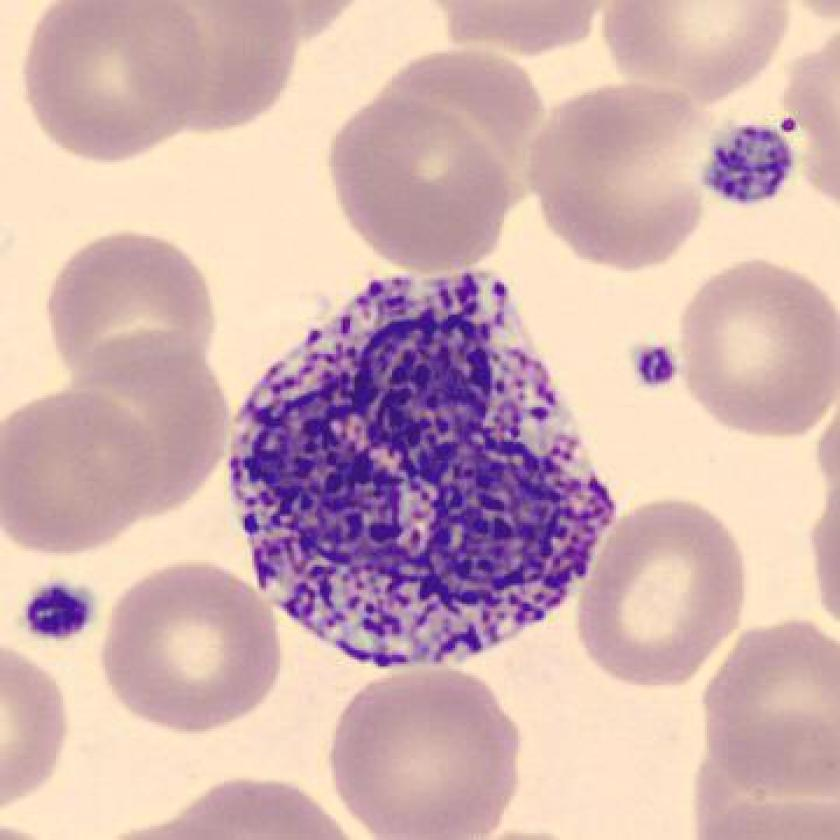basophil: (218, 265, 631, 677)
